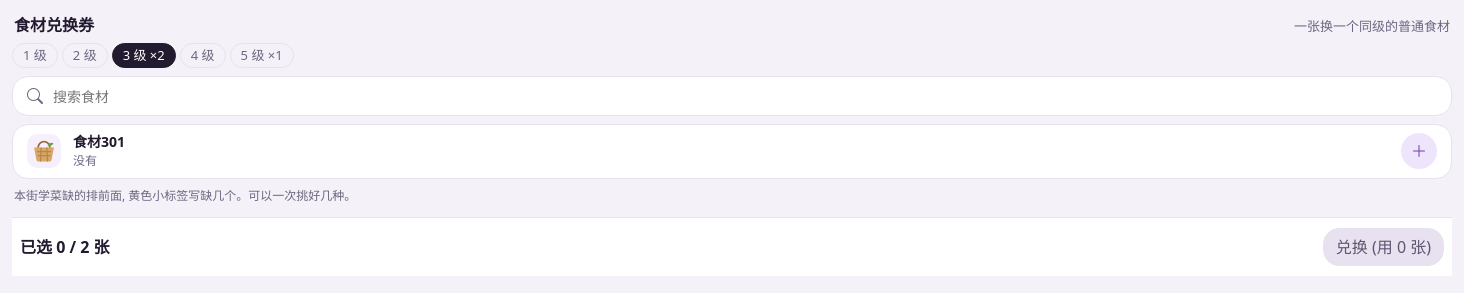
Test: TicketPanel › 等级换成一排按钮并写每级有几张券，默认停在第一个有券的等级（问题记录 491）
The width and height of the screenshot is (1464, 293).
expect the button with test id "lt-add-301" is shown: met, box [1401, 133, 1437, 169]
Click the button with test id "lt-level-5".
click(262, 55)  # box [230, 42, 294, 68]
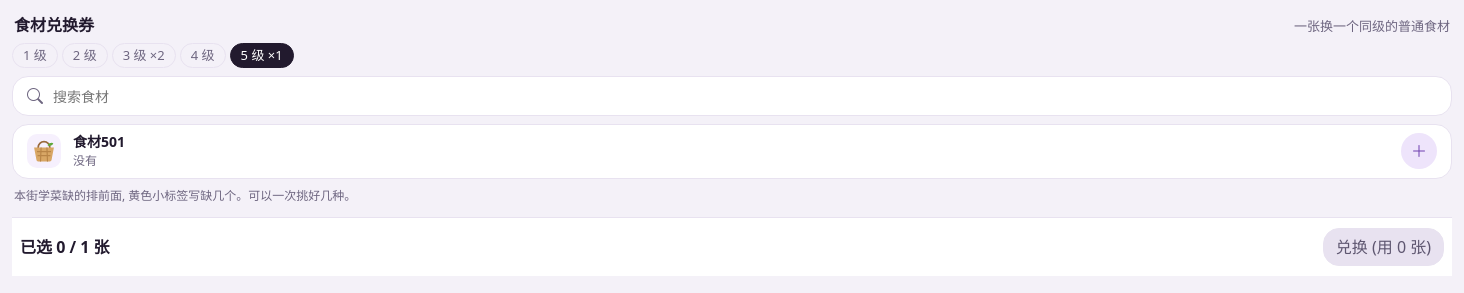
expect the button with test id "lt-add-501" is shown: met, box [1401, 133, 1437, 169]
expect the text with test id "lt-picked" reads "已选 0 / 1 张": met, box [20, 236, 110, 258]
